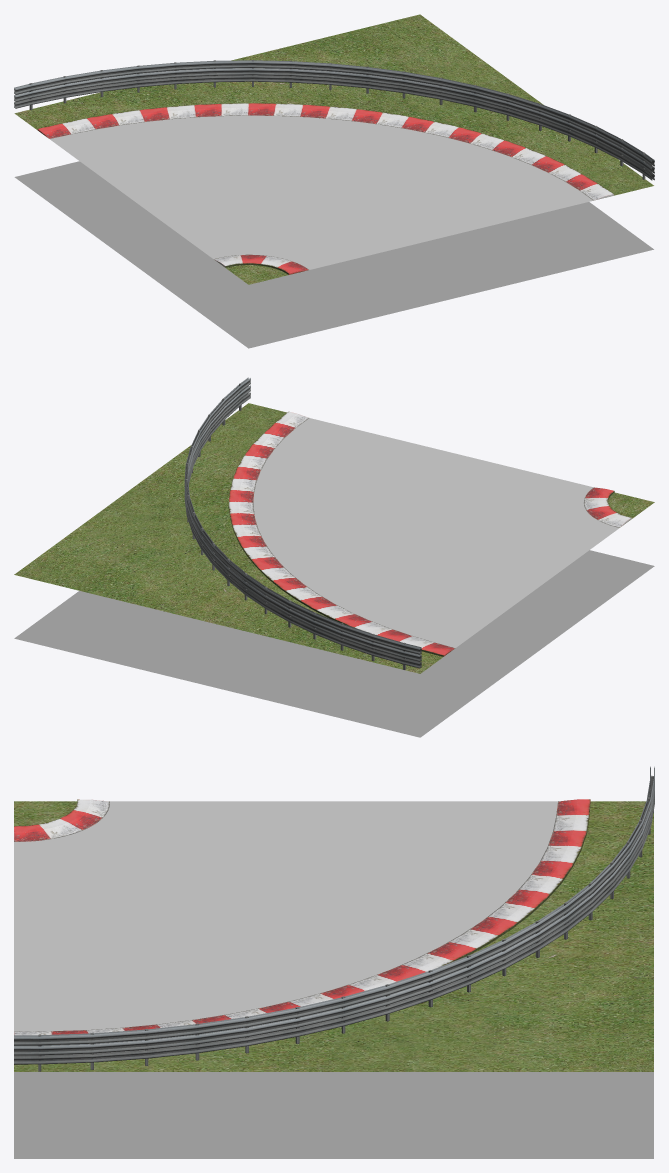
The model's file is Track_Curve_B.fbx.
The picture shows the model from 3 angles, top to bottom: view 1: azimuth 30°, elevation 25°; view 2: azimuth 150°, elevation 25°; view 3: azimuth 270°, elevation 25°; orthographic projection. The views are drawn at different scales.
Visible parts, largest first — view 1: Road, Snap_Plane_Invisible, Grass, Rail, Curb_A, Curb_B; view 2: Road, Snap_Plane_Invisible, Grass, Rail, Curb_A, Curb_B; view 3: Road, Snap_Plane_Invisible, Grass, Rail, Curb_A, Curb_B.
Part boxes in pixels (x1=…): Road: x1=50, y1=115, x2=593, y2=269; Snap_Plane_Invisible: x1=14, y1=161, x2=653, y2=348; Grass: x1=14, y1=14, x2=653, y2=284; Rail: x1=14, y1=60, x2=654, y2=180; Curb_A: x1=37, y1=103, x2=613, y2=200; Curb_B: x1=214, y1=254, x2=308, y2=274; Road: x1=253, y1=418, x2=619, y2=647; Snap_Plane_Invisible: x1=14, y1=550, x2=654, y2=737; Grass: x1=14, y1=403, x2=654, y2=673; Rail: x1=184, y1=377, x2=421, y2=669; Curb_A: x1=228, y1=411, x2=455, y2=656; Curb_B: x1=584, y1=487, x2=631, y2=527; Road: x1=14, y1=801, x2=557, y2=1031; Snap_Plane_Invisible: x1=14, y1=1072, x2=653, y2=1158; Grass: x1=14, y1=801, x2=653, y2=1071; Rail: x1=14, y1=766, x2=654, y2=1071; Curb_A: x1=14, y1=799, x2=590, y2=1035; Curb_B: x1=14, y1=799, x2=109, y2=841.
Bounding box in the file's own units: 20.03 × 4.24 × 20.03.
